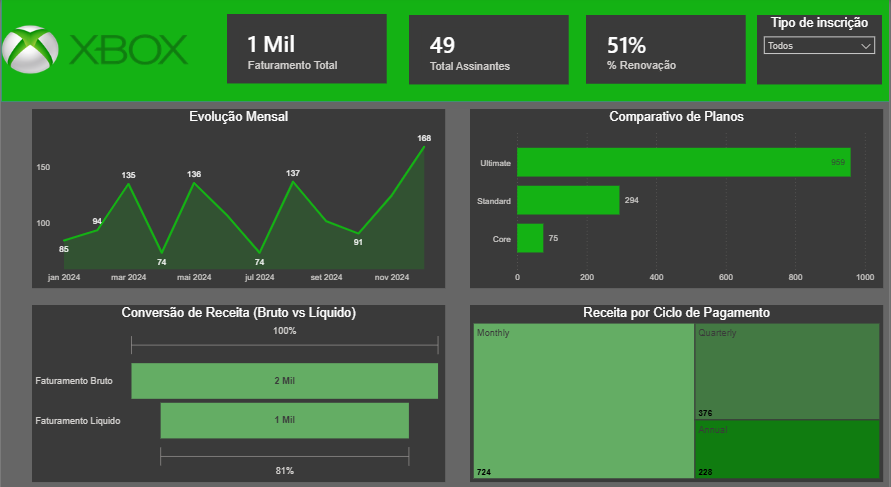

The page's visual inventory and layout, read from the dashboard file:
{"tool":"powerbi","page":{"name":"Página 1","canvas":[1280,720],"ordinal":0},"visuals":[{"type":"shape","box":[0,0,1280.2,151.2],"z":0},{"type":"image","box":[0,0,270.7,151.2],"z":1000},{"type":"cardVisual","fields":{"Data":["Medidas.Faturamento Total"]},"box":[325.4,24.5,230,100],"z":2000},{"type":"cardVisual","fields":{"Data":["Medidas.Total Assinantes"]},"box":[587.5,25.9,230.4,100],"z":3000},{"type":"cardVisual","fields":{"Data":["Medidas.% Renovação"]},"box":[842.4,25.9,230.4,99.4],"z":4000},{"type":"areaChart","title":"Evolução Mensal","fields":{"Y":["Medidas.Faturamento Total"],"Category":["Data.Data.Variation.Hierarquia de datas.Ano","Data.Data.Variation.Hierarquia de datas.Trimestre","Data.Data.Variation.Hierarquia de datas.Mês","Data.Data.Variation.Hierarquia de datas.Dia"]},"box":[44.6,161.3,594.7,257.8],"z":5000},{"type":"clusteredBarChart","title":"Comparativo de Planos","fields":{"Category":["base_vendas.Plan"],"Y":["Medidas.Faturamento Total"]},"box":[675.4,161.3,594.7,257.8],"z":6000},{"type":"slicer","title":"Tipo de inscrição","fields":{"Values":["base_vendas.Subscription Type"]},"box":[1088.6,25.9,180,100],"z":7000},{"type":"funnel","title":"Conversão de Receita (Bruto vs Líquido)","fields":{"Y":["Medida.Faturamento Bruto","Medida.Faturamento Liquido"]},"box":[44.6,443.5,594.7,254.9],"z":7001},{"type":"treemap","title":"Receita por Ciclo de Pagamento","fields":{"Group":["base_vendas.Subscription Type"],"Values":["Medidas.Faturamento Total"]},"box":[675,444,595,255],"z":7002}]}

Visuals, with their boxes in screenshot pixels (x1, y1, x2, y2), scaled from the page's 1280x720 canvas onto the 891x487 screenshot:
shape: <region>0, 0, 890, 102</region>
image: <region>0, 0, 188, 102</region>
cardVisual - Medidas.Faturamento Total: <region>227, 17, 387, 84</region>
cardVisual - Medidas.Total Assinantes: <region>409, 18, 569, 85</region>
cardVisual - Medidas.% Renovação: <region>586, 18, 747, 85</region>
"Evolução Mensal" areaChart: <region>31, 109, 445, 283</region>
"Comparativo de Planos" clusteredBarChart: <region>470, 109, 884, 283</region>
"Tipo de inscrição" slicer: <region>758, 18, 883, 85</region>
"Conversão de Receita (Bruto vs Líquido)" funnel: <region>31, 300, 445, 472</region>
"Receita por Ciclo de Pagamento" treemap: <region>470, 300, 884, 473</region>
